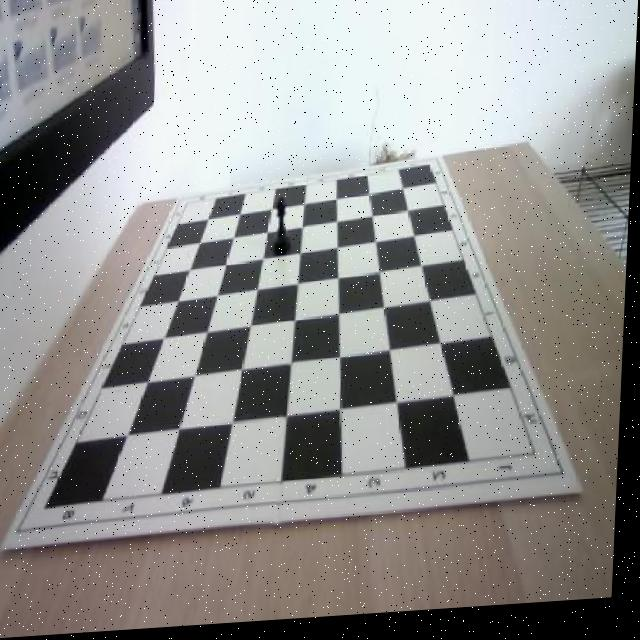black-knight: (274, 199, 294, 256)
